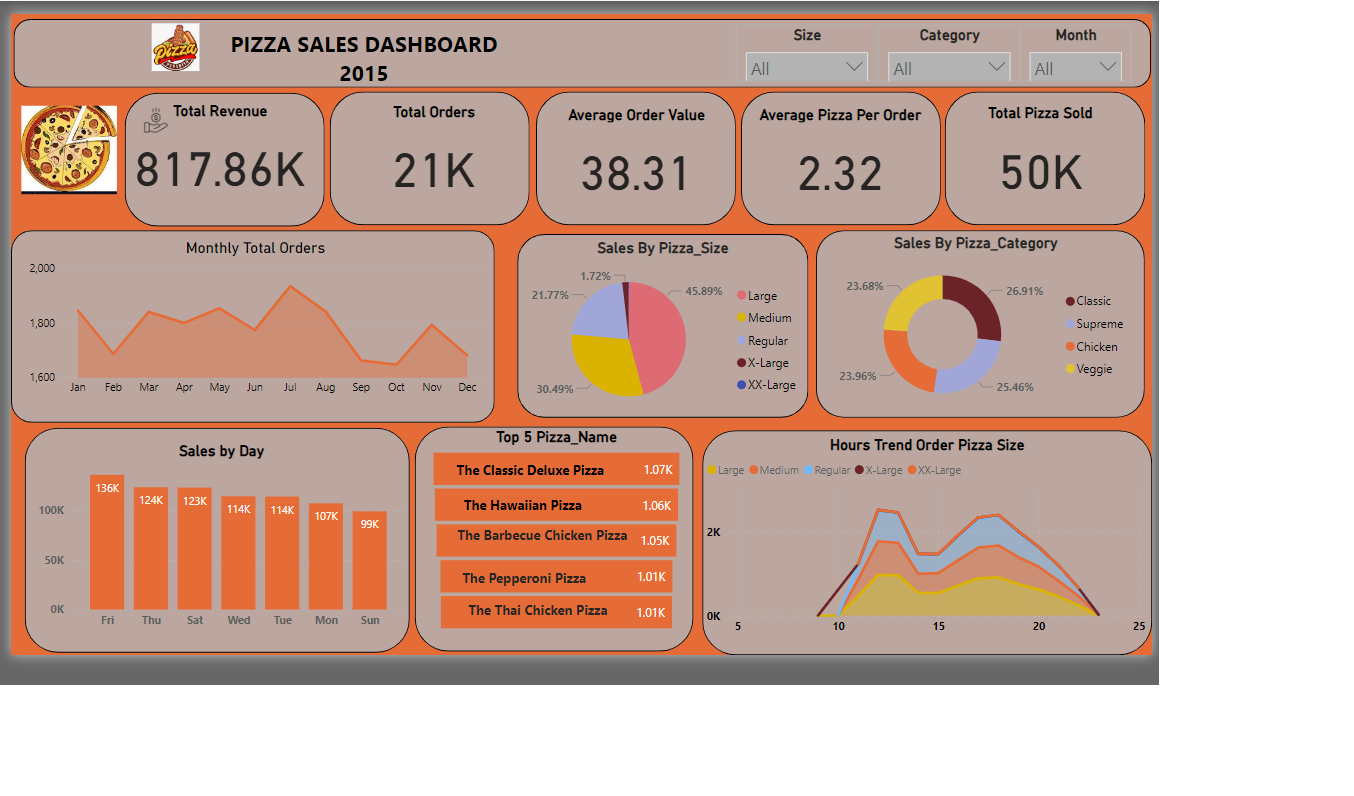

This screenshot's page, from the dashboard's own definition file:
{"tool":"powerbi","page":{"name":"Page 1","canvas":[1280,720],"ordinal":0},"visuals":[{"type":"shape","box":[775.5,467,504.8,252.4],"z":0},{"type":"shape","box":[567.9,246.8,326.7,206.1],"z":1000},{"type":"shape","box":[0,242.6,542.7,216],"z":2000},{"type":"shape","box":[2.8,5.6,1276.1,77.1],"z":3000},{"type":"image","box":[129,5.6,110.8,63.1],"z":4000},{"type":"textbox","box":[151.4,12.6,489.4,108],"z":5000},{"type":"slicer","title":"Month","fields":{"Values":["pizza_sales.First Characters"]},"box":[1131.6,12.6,124.8,63.1],"z":6000},{"type":"shape","box":[127.6,88.3,224.4,150],"z":7000},{"type":"shape","box":[357.6,86.9,224.4,150],"z":8000},{"type":"shape","box":[589,86.9,224.4,150],"z":9000},{"type":"shape","box":[818.9,86.9,224.4,150],"z":10000},{"type":"shape","box":[1047.5,86.9,225,150],"z":11000},{"type":"image","box":[2.8,98.2,124.8,109.4],"z":12000},{"type":"card","title":"Total Revenue","fields":{"Values":["pizza_sales.Total_Revenue"]},"box":[127.6,98.2,214.5,119.2],"z":13000},{"type":"card","title":"Total Orders","fields":{"Values":["pizza_sales.Total Orders"]},"box":[367.4,99.6,214.5,119.2],"z":14000},{"type":"card","title":"Average Order Value","fields":{"Values":["pizza_sales.Average Order Value"]},"box":[594.6,102.4,214.5,119.2],"z":15000},{"type":"card","title":"Average Pizza Per Order","fields":{"Values":["pizza_sales.Average Pizzas Per Order"]},"box":[823.1,102.4,214.5,119.2],"z":16000},{"type":"card","title":"Total Pizza Sold","fields":{"Values":["pizza_sales.Total Pizzas Sold"]},"box":[1047.5,101,214.5,119.2],"z":17000},{"type":"areaChart","title":"Monthly Total Orders","fields":{"Category":["pizza_sales.First Characters"],"Y":["Sum(pizza_sales.total_orders)"]},"box":[15.4,252.4,517.4,185.1],"z":18000},{"type":"pieChart","title":"Sales By Pizza_Size","fields":{"Y":["Sum(pizza_sales.total_price)"],"Category":["pizza_sales.pizza_Regularize"]},"box":[567.9,252.4,326.7,206.1],"z":19000},{"type":"shape","box":[903.1,242.6,368.8,210.3],"z":20000},{"type":"donutChart","title":"Sales By Pizza_Category","fields":{"Y":["Sum(pizza_sales.total_price)"],"Category":["pizza_sales.pizza_category"]},"box":[903.1,246.8,359,206.1],"z":21000},{"type":"shape","box":[15.4,464.2,431.9,252.4],"z":22000},{"type":"columnChart","title":"Sales by Day","fields":{"Category":["pizza_sales.order_day"],"Y":["Sum(pizza_sales.total_price)"]},"box":[25.2,479.6,422.1,218.8],"z":23000},{"type":"shape","box":[452.9,462.8,312.7,252.4],"z":24000},{"type":"funnel","title":"Top 5 Pizza_Name","fields":{"Category":["pizza_sales.pizza_name"],"Y":["Sum(pizza_sales.total_orders)"]},"box":[464.2,464.2,295.9,234.2],"z":25000},{"type":"textbox","box":[417.9,496.4,329.5,39.3],"z":26000},{"type":"textbox","box":[389.8,535.7,368.8,67.3],"z":27000},{"type":"textbox","box":[469.8,569.3,252.4,47.7],"z":28000},{"type":"textbox","box":[447.3,617,256.6,47.7],"z":29000},{"type":"textbox","box":[406.7,653.5,368.8,47.7],"z":30000},{"type":"stackedAreaChart","title":"Hours Trend Order Pizza Size ","fields":{"Category":["pizza_sales.Hour"],"Y":["Sum(pizza_sales.total_orders)"],"Series":["pizza_sales.pizza_Regularize"]},"box":[775.5,472.6,504.8,232.8],"z":31000},{"type":"slicer","title":"Category","fields":{"Values":["pizza_sales.pizza_Regularize"]},"box":[973.2,12.6,158.5,63.1],"z":31001},{"type":"slicer","title":"Size","fields":{"Values":["pizza_sales.pizza_Regularize"]},"box":[813.3,12.6,158.5,63.1],"z":31002},{"type":"image","box":[140.2,98.2,44.9,42.1],"z":31004}]}

Visuals, with their boxes on the page's 1280x720 design canvas (x1, y1, x2, y2). These are canvas units, not pixel positions in the 1354x796 screenshot, which may show the page scaled, cropped or inside an application window:
shape: (x1=776, y1=467, x2=1280, y2=719)
shape: (x1=568, y1=247, x2=895, y2=453)
shape: (x1=0, y1=243, x2=543, y2=459)
shape: (x1=3, y1=6, x2=1279, y2=83)
image: (x1=129, y1=6, x2=240, y2=69)
textbox: (x1=151, y1=13, x2=641, y2=121)
"Month" slicer: (x1=1132, y1=13, x2=1256, y2=76)
shape: (x1=128, y1=88, x2=352, y2=238)
shape: (x1=358, y1=87, x2=582, y2=237)
shape: (x1=589, y1=87, x2=813, y2=237)
shape: (x1=819, y1=87, x2=1043, y2=237)
shape: (x1=1048, y1=87, x2=1272, y2=237)
image: (x1=3, y1=98, x2=128, y2=208)
"Total Revenue" card: (x1=128, y1=98, x2=342, y2=217)
"Total Orders" card: (x1=367, y1=100, x2=582, y2=219)
"Average Order Value" card: (x1=595, y1=102, x2=809, y2=222)
"Average Pizza Per Order" card: (x1=823, y1=102, x2=1038, y2=222)
"Total Pizza Sold" card: (x1=1048, y1=101, x2=1262, y2=220)
"Monthly Total Orders" areaChart: (x1=15, y1=252, x2=533, y2=438)
"Sales By Pizza_Size" pieChart: (x1=568, y1=252, x2=895, y2=458)
shape: (x1=903, y1=243, x2=1272, y2=453)
"Sales By Pizza_Category" donutChart: (x1=903, y1=247, x2=1262, y2=453)
shape: (x1=15, y1=464, x2=447, y2=717)
"Sales by Day" columnChart: (x1=25, y1=480, x2=447, y2=698)
shape: (x1=453, y1=463, x2=766, y2=715)
"Top 5 Pizza_Name" funnel: (x1=464, y1=464, x2=760, y2=698)
textbox: (x1=418, y1=496, x2=747, y2=536)
textbox: (x1=390, y1=536, x2=759, y2=603)
textbox: (x1=470, y1=569, x2=722, y2=617)
textbox: (x1=447, y1=617, x2=704, y2=665)
textbox: (x1=407, y1=654, x2=776, y2=701)
"Hours Trend Order Pizza Size " stackedAreaChart: (x1=776, y1=473, x2=1280, y2=705)
"Category" slicer: (x1=973, y1=13, x2=1132, y2=76)
"Size" slicer: (x1=813, y1=13, x2=972, y2=76)
image: (x1=140, y1=98, x2=185, y2=140)
